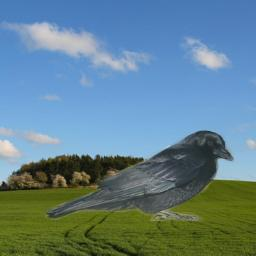Crow: (44, 129, 234, 221)
